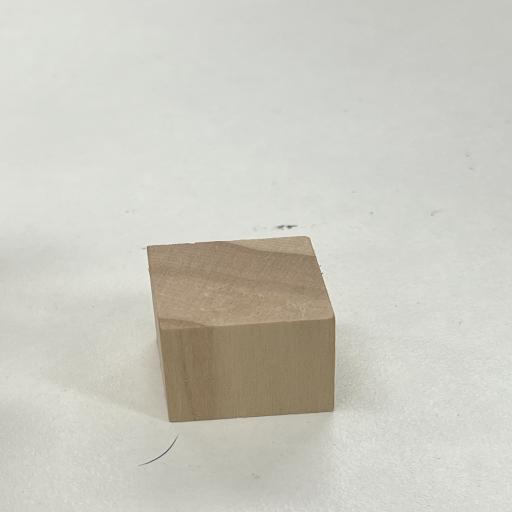wood cube: (147, 236, 335, 422)
